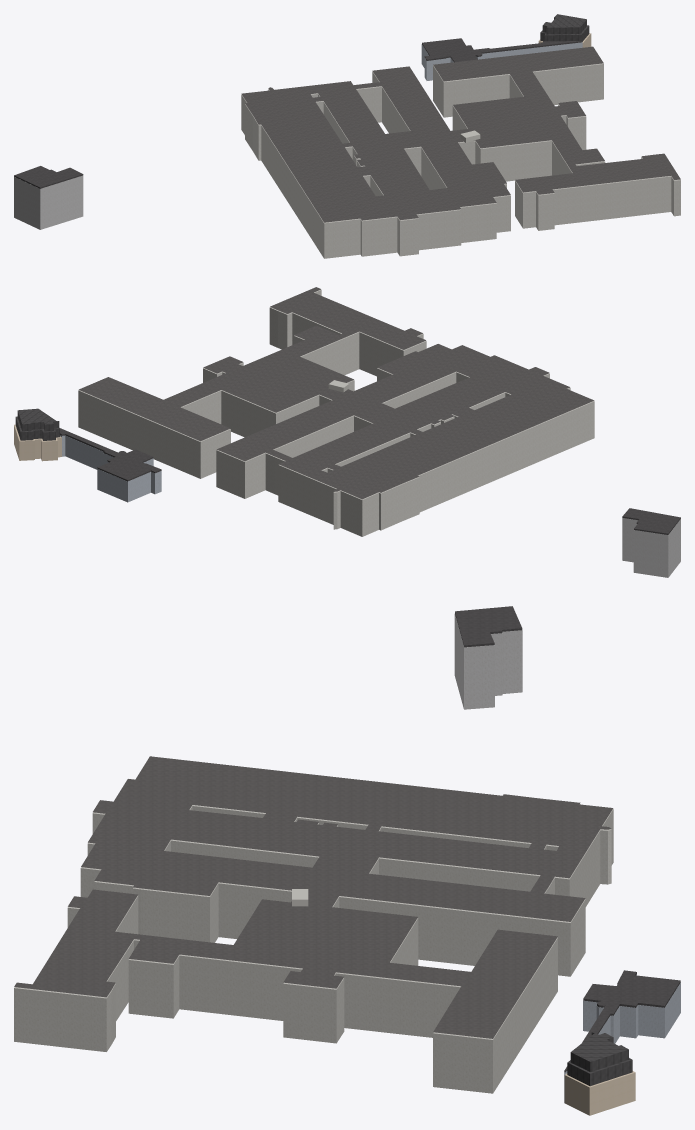
3 renders of one model, top to bottom at view 1: azimuth 30°, elevation 25°; view 2: azimuth 150°, elevation 25°; view 3: azimuth 270°, elevation 25°, orthographic. The views are drawn at different scales.
Visible parts, largest first — view 1: lmbase_7345816_roof, lmbase_7345816, lmbase_501410388, lmbase_232921425_roof, lmbase_232921425, lmbase_501410388_roof, lmbase_503176291_roof_b, lmbase_503176291_roof_a; view 2: lmbase_7345816_roof, lmbase_7345816, lmbase_501410388, lmbase_232921425, lmbase_232921425_roof, lmbase_503176291, lmbase_501410388_roof, lmbase_503176291_roof_b, lmbase_503176291_roof_a; view 3: lmbase_7345816_roof, lmbase_7345816, lmbase_501410388, lmbase_232921425_roof, lmbase_232921425, lmbase_503176291, lmbase_501410388_roof, lmbase_503176291_roof_b, lmbase_503176291_roof_a.
Boxes of the visible parts, box(x1,y1,x2,y2) form: lmbase_7345816_roof: box(241, 46, 680, 222); lmbase_7345816: box(241, 63, 680, 258); lmbase_501410388: box(14, 175, 83, 229); lmbase_232921425_roof: box(422, 38, 582, 62); lmbase_232921425: box(421, 42, 582, 80); lmbase_501410388_roof: box(14, 166, 83, 188); lmbase_503176291_roof_b: box(542, 14, 586, 34); lmbase_503176291_roof_a: box(540, 25, 589, 41); lmbase_7345816_roof: box(79, 287, 594, 499); lmbase_7345816: box(78, 289, 594, 536); lmbase_501410388: box(622, 518, 680, 577); lmbase_232921425: box(60, 435, 161, 502); lmbase_232921425_roof: box(59, 428, 161, 481); lmbase_503176291: box(14, 424, 61, 461); lmbase_501410388_roof: box(622, 508, 680, 534); lmbase_503176291_roof_b: box(17, 408, 59, 431); lmbase_503176291_roof_a: box(15, 416, 59, 440); lmbase_7345816_roof: box(14, 756, 613, 1038); lmbase_7345816: box(14, 804, 613, 1093); lmbase_501410388: box(454, 613, 522, 709); lmbase_232921425_roof: box(564, 970, 680, 1072); lmbase_232921425: box(564, 974, 680, 1102); lmbase_503176291: box(564, 1071, 635, 1115); lmbase_501410388_roof: box(455, 606, 522, 647); lmbase_503176291_roof_b: box(570, 1032, 628, 1071); lmbase_503176291_roof_a: box(567, 1058, 632, 1086).
Bounding box in the file's own units: 270 × 18.15 × 171.
Materials: 7 (7 with a texture image).
